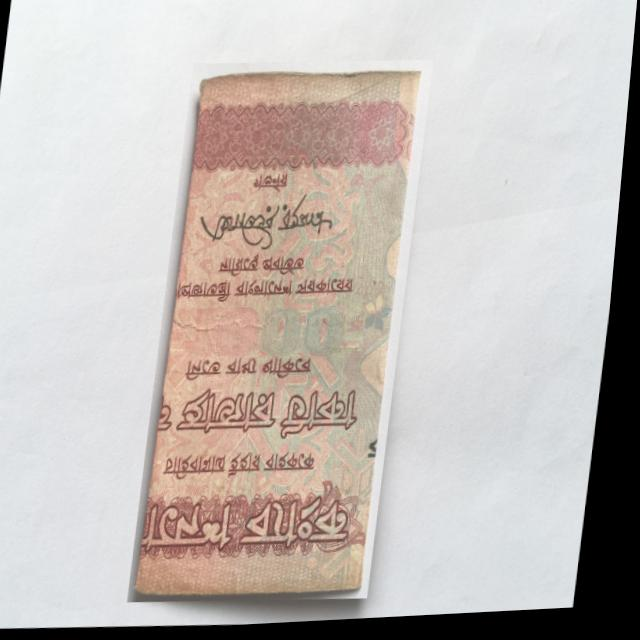Taka: (138, 56, 435, 612)
